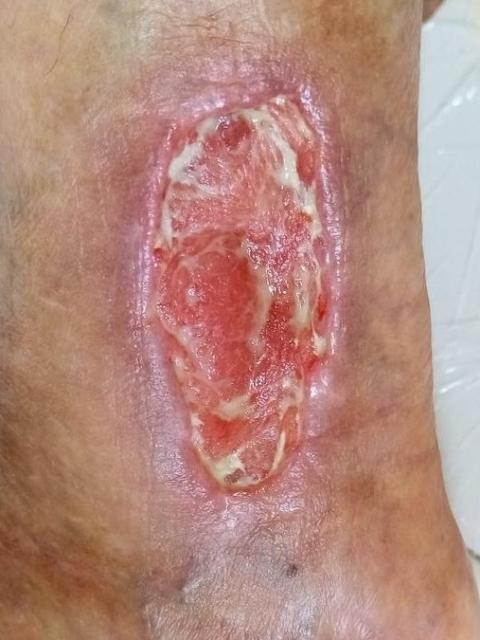wound: (154, 92, 331, 492)
